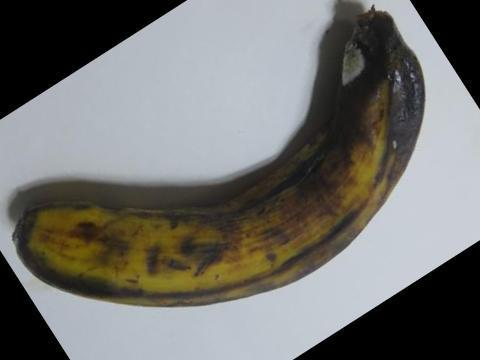overripe: (0, 0, 429, 315)
rotten: (314, 4, 450, 152)
